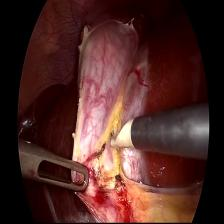Grasper: (17, 139, 91, 195)
Hook: (109, 113, 138, 152)
